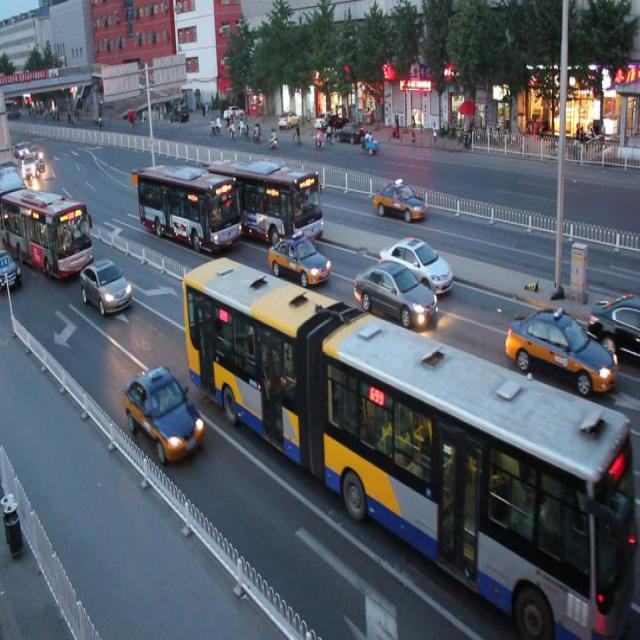car: (505, 304, 616, 394), (120, 368, 203, 459), (353, 256, 438, 332), (379, 232, 452, 296), (267, 231, 330, 288), (587, 292, 640, 355), (80, 255, 133, 317), (371, 174, 425, 227), (169, 160, 203, 200), (1, 244, 22, 294)
van: (179, 256, 640, 634), (205, 154, 324, 248), (138, 162, 244, 255), (1, 186, 94, 281)
